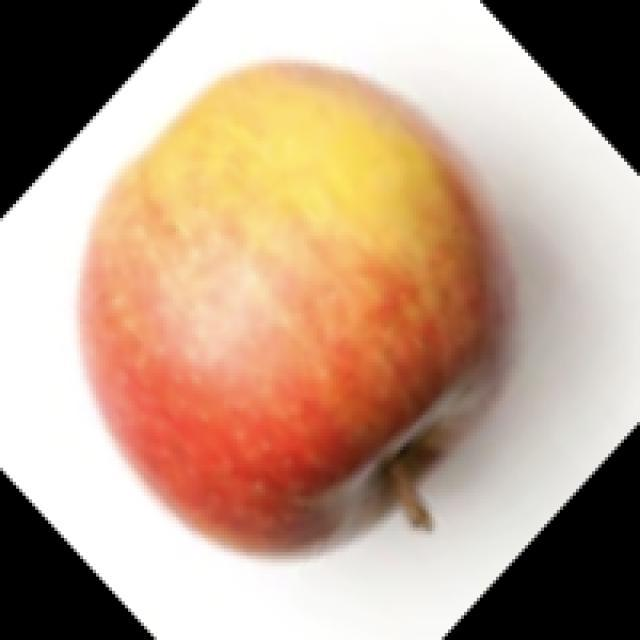Fresh Apple: (119, 68, 508, 555)
